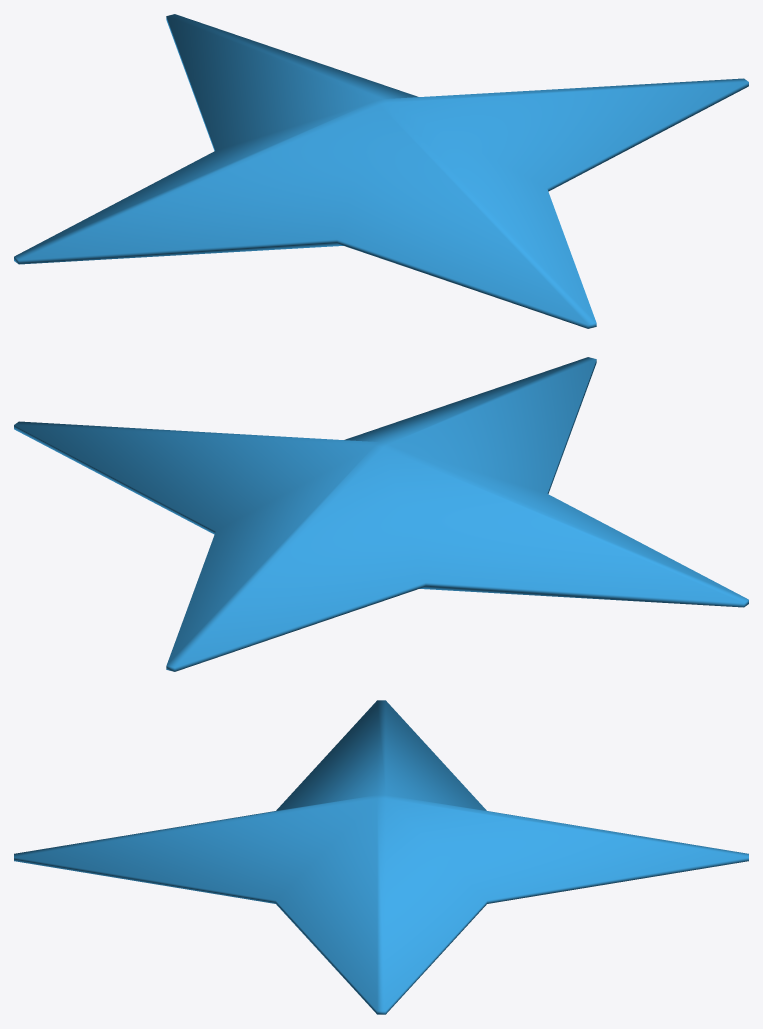
The model's file is upgrade.glb.
3 renders of one model, top to bottom at view 1: azimuth 30°, elevation 25°; view 2: azimuth 150°, elevation 25°; view 3: azimuth 270°, elevation 25°, orthographic. The views are drawn at different scales.
Visible parts, largest first — view 1: Plane; view 2: Plane; view 3: Plane.
Boxes of the visible parts, x1,y1,x2,y2 form: Plane: (14,14,748,328); Plane: (14,357,748,671); Plane: (14,700,748,1014).
Bounding box in the file's own units: 0.369 × 0.0671 × 0.369.
